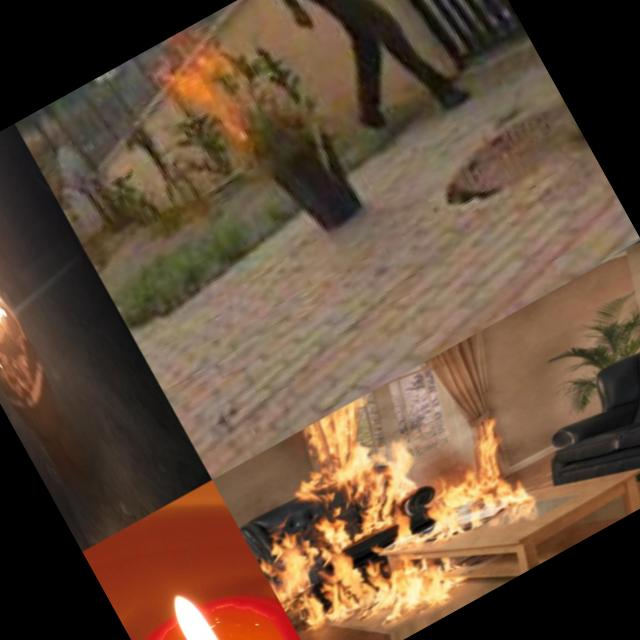fire: (221, 344, 566, 640), (148, 19, 264, 158), (151, 563, 244, 640), (0, 165, 33, 362)
